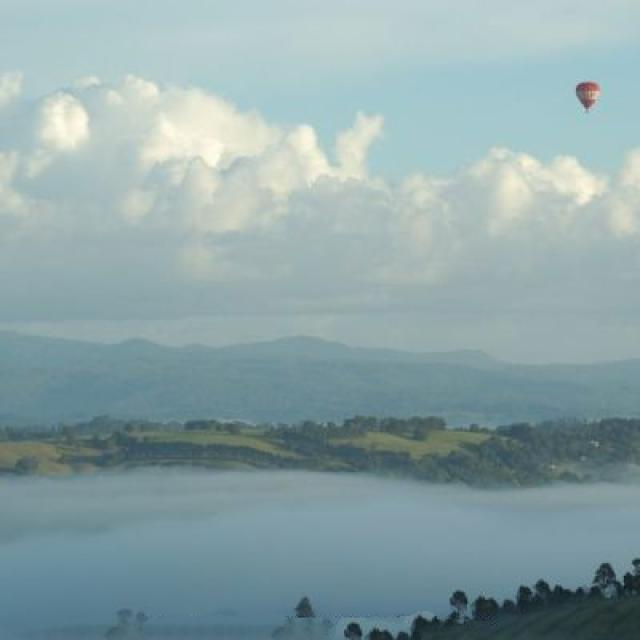Cu: (1, 20, 531, 335)
